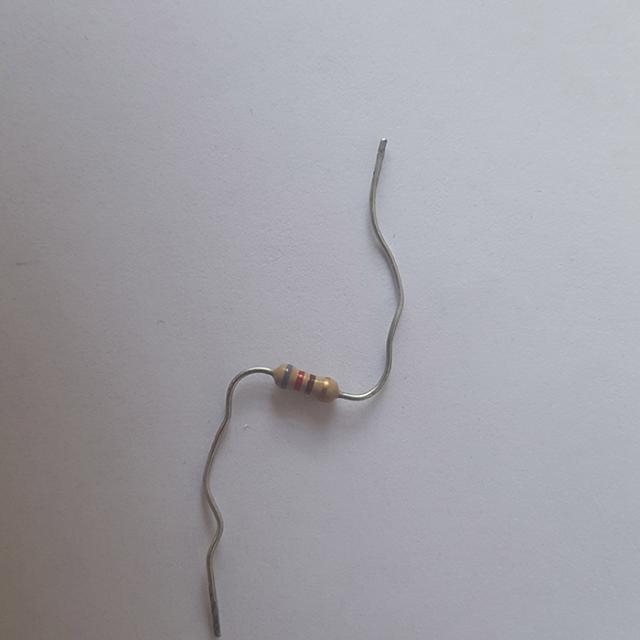brown: (306, 374, 315, 393)
gold: (320, 378, 330, 400)
grey: (281, 365, 292, 388)
red: (295, 371, 304, 391)
resistor: (264, 355, 339, 414)
